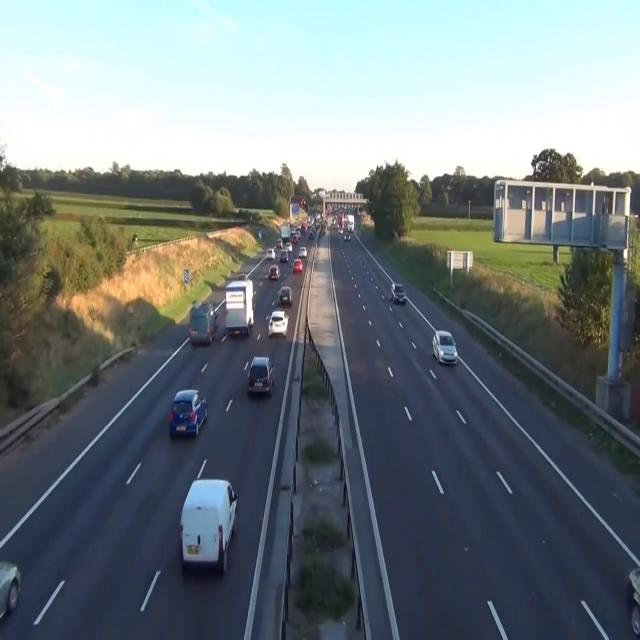belum terisi: (176, 464, 242, 572), (169, 377, 211, 448), (220, 268, 259, 342), (427, 316, 464, 382), (181, 290, 221, 350), (243, 345, 277, 409), (387, 272, 412, 318), (268, 299, 290, 347), (278, 280, 296, 316)
